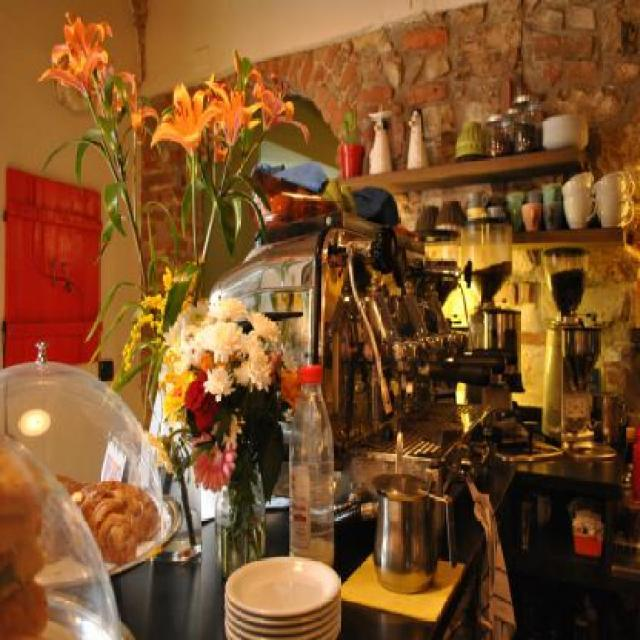Croissant: (57, 482, 166, 566)
